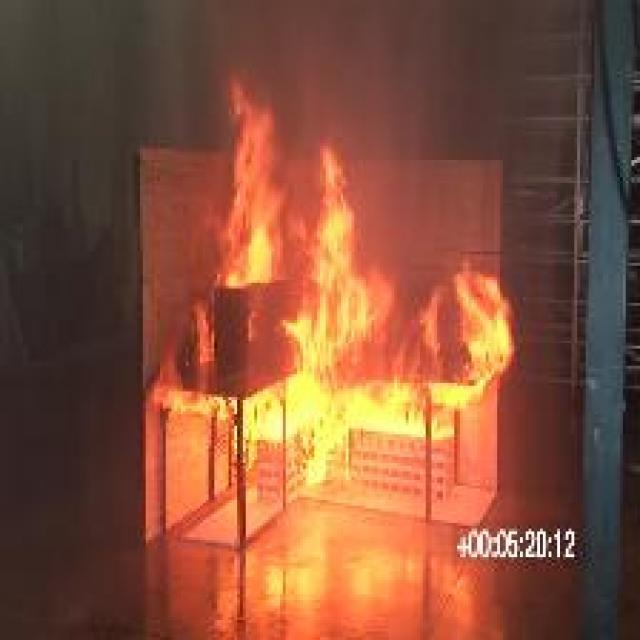Fire: (150, 144, 513, 487), (218, 79, 288, 288)
